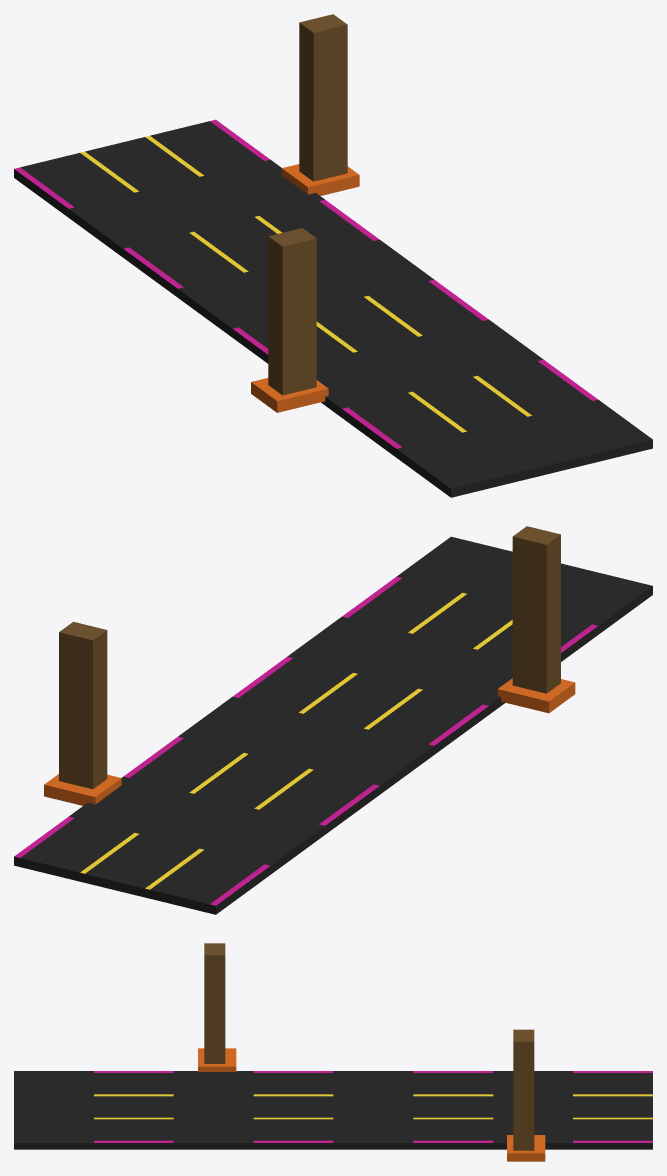
The model's file is Roads with road lights 1.fbx.
3 views of the same model, one above another, from view 1: azimuth 30°, elevation 25°; view 2: azimuth 150°, elevation 25°; view 3: azimuth 270°, elevation 25° (orthographic). The views are drawn at different scales.
Visible parts, largest first — view 1: Cube, Cube.002, Cube.001, Tree.001, Tree; view 2: Cube, Cube.001, Cube.002, Tree.001, Tree; view 3: Cube, Cube.002, Cube.001, Tree, Tree.001.
Part boxes in pixels (left/top/right/bottom): Cube: left=14, top=119, right=652, bottom=497; Cube.002: left=299, top=14, right=347, bottom=181; Cube.001: left=268, top=228, right=316, bottom=395; Tree.001: left=251, top=378, right=328, bottom=412; Tree: left=282, top=164, right=359, bottom=195; Cube: left=14, top=536, right=652, bottom=914; Cube.001: left=512, top=526, right=560, bottom=693; Cube.002: left=59, top=622, right=107, bottom=789; Tree.001: left=497, top=678, right=575, bottom=713; Tree: left=44, top=774, right=121, bottom=805; Cube: left=14, top=1071, right=652, bottom=1149; Cube.002: left=513, top=1029, right=534, bottom=1150; Cube.001: left=204, top=943, right=225, bottom=1063; Tree: left=507, top=1135, right=545, bottom=1161; Tree.001: left=198, top=1048, right=236, bottom=1071.
Bounding box in the file's own units: 1164 × 625 × 3000.
